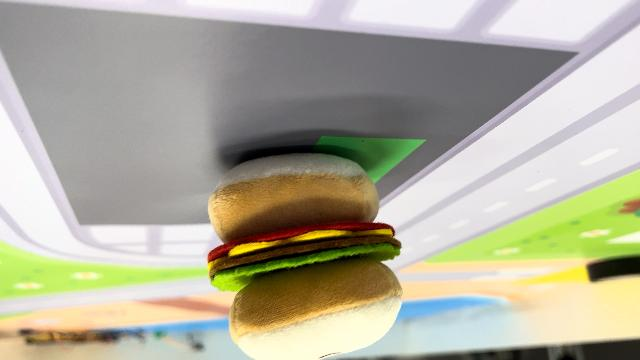sandwich: (203, 149, 407, 357)
